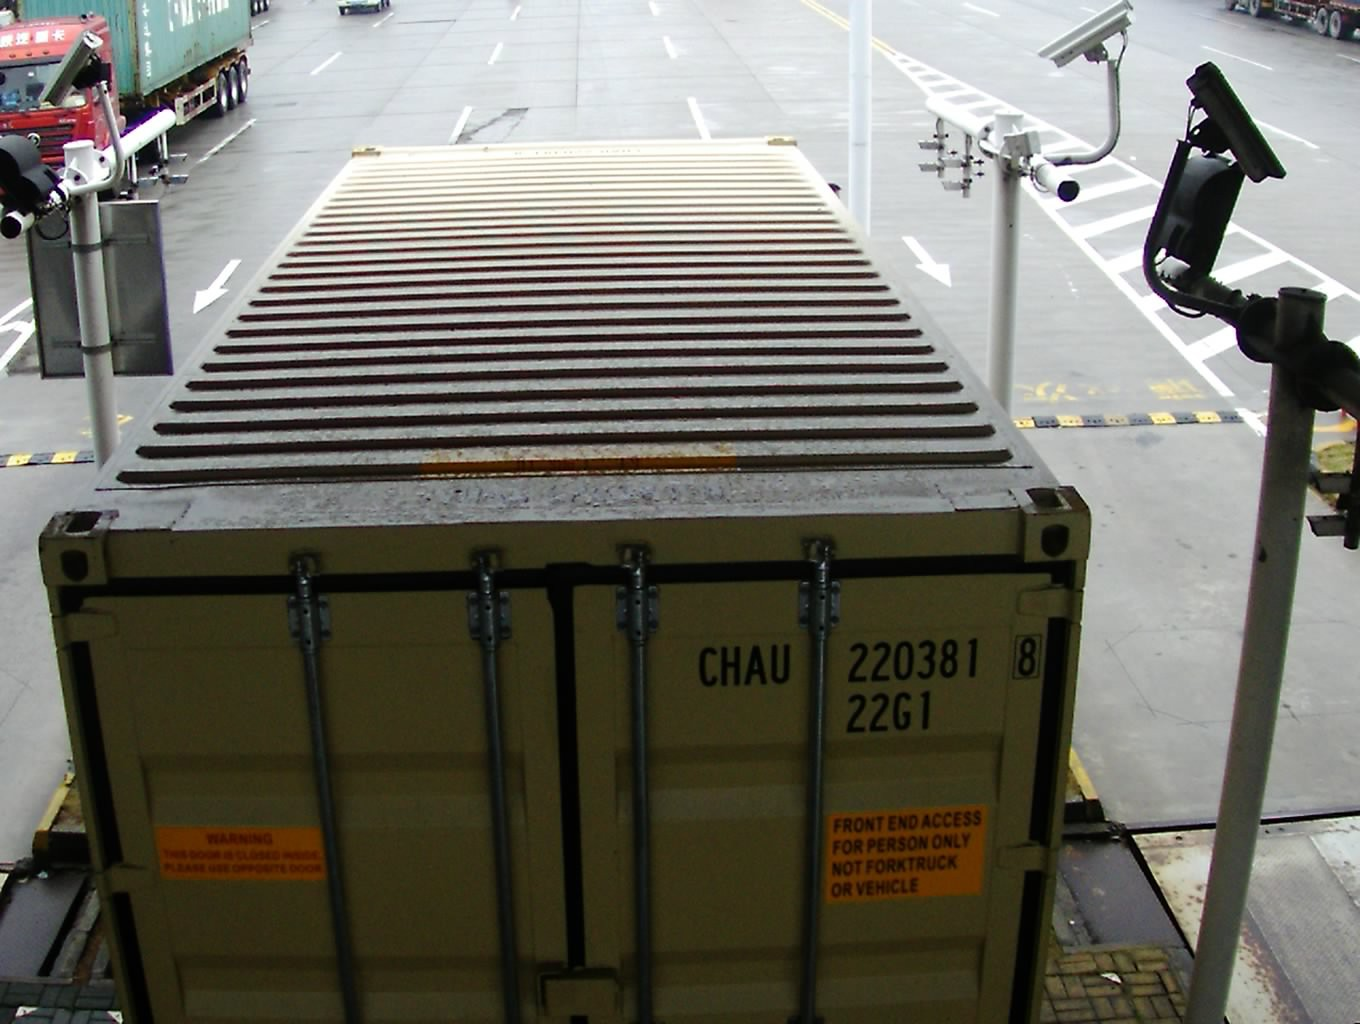words: (842, 631, 988, 687), (690, 636, 800, 694), (842, 682, 937, 737), (1010, 629, 1046, 687)
